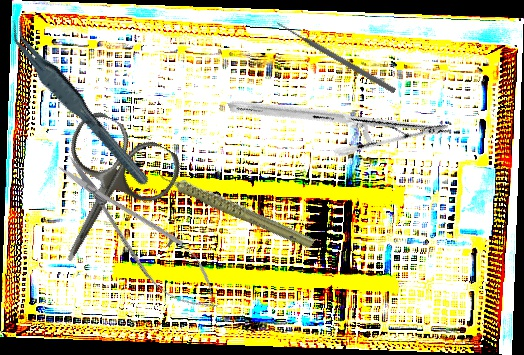Handpiece: (152, 135, 317, 278)
Iris Scissors: (17, 105, 189, 288)
Micro Scissor: (44, 141, 234, 328)
Needle Holder: (227, 27, 451, 209)
Pusher: (275, 19, 397, 95)
Tissue Forceps: (3, 6, 152, 202)
